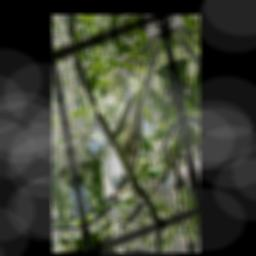Cuckoo: (72, 39, 185, 209)
